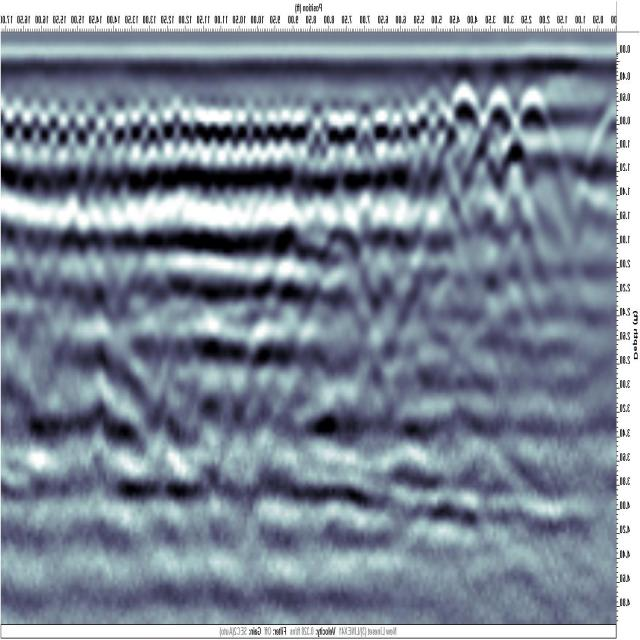hyperbola: (446, 74, 486, 158), (516, 82, 555, 156), (480, 81, 519, 155)
